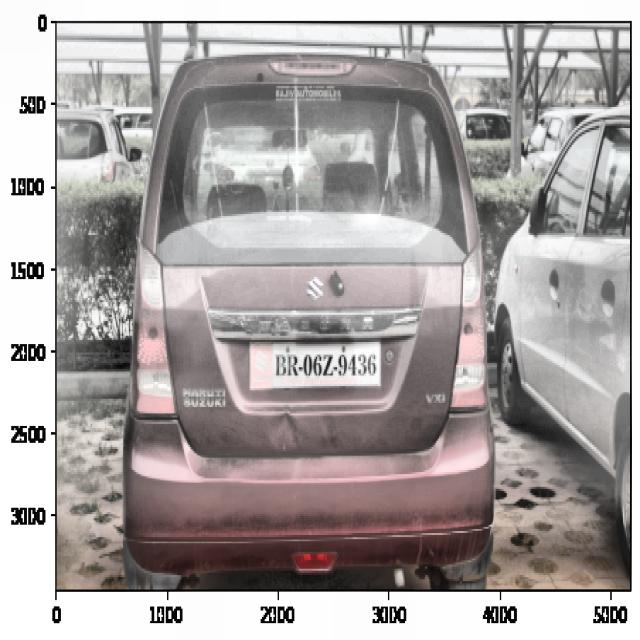license_plate: (269, 346, 380, 390)
